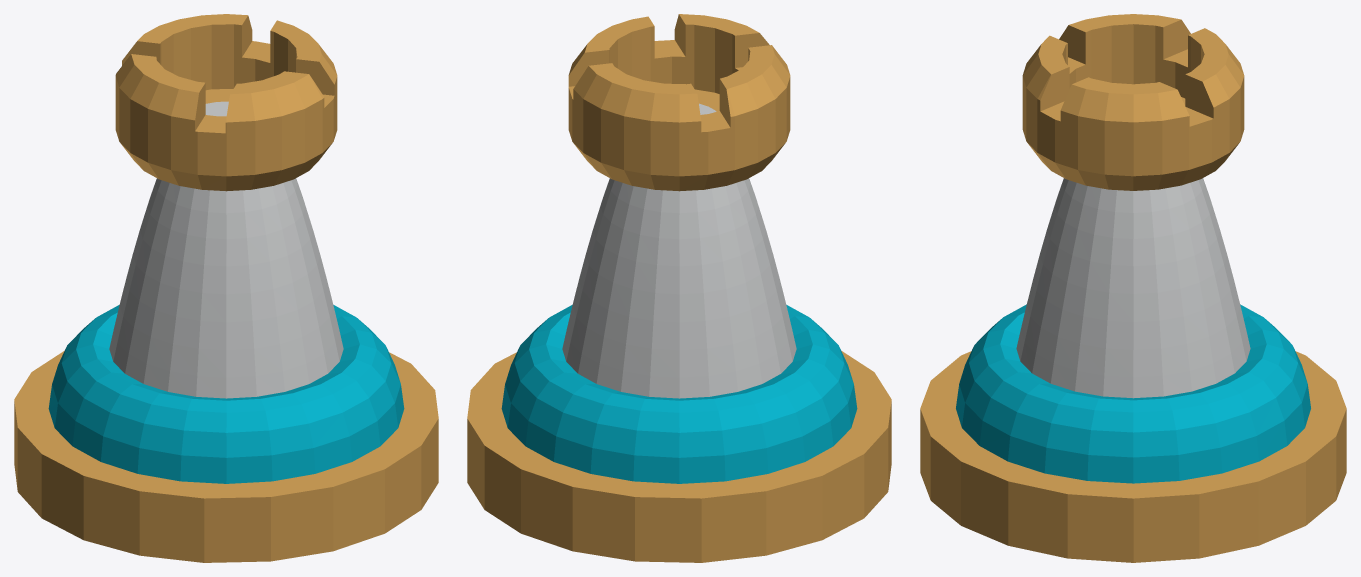
File: rook.glb
3 views of the same model, side by side, from view 1: azimuth 30°, elevation 25°; view 2: azimuth 150°, elevation 25°; view 3: azimuth 270°, elevation 25° (orthographic).
Visible parts, largest first — view 1: Mesh_Mesh_head_geo.001_lambert2SG.001; view 2: Mesh_Mesh_head_geo.001_lambert2SG.001; view 3: Mesh_Mesh_head_geo.001_lambert2SG.001.
Part boxes in pixels (left/top/right/bottom): Mesh_Mesh_head_geo.001_lambert2SG.001: left=14, top=14, right=438, bottom=562; Mesh_Mesh_head_geo.001_lambert2SG.001: left=467, top=14, right=891, bottom=562; Mesh_Mesh_head_geo.001_lambert2SG.001: left=920, top=14, right=1346, bottom=562.
Bounding box in the file's own units: 12 × 13 × 12.
